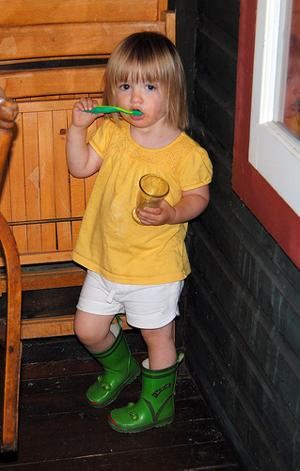person: (66, 30, 213, 433)
